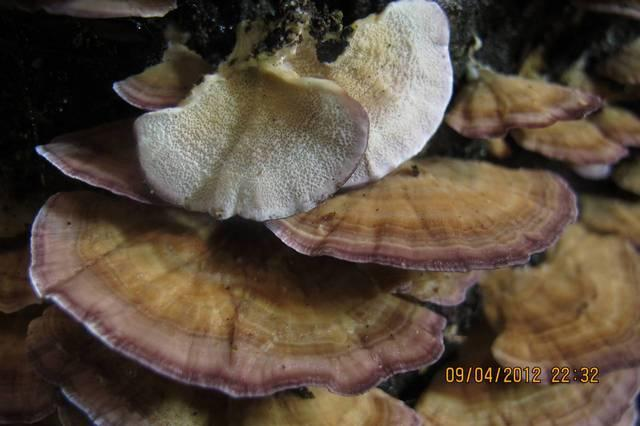poisonous_mushroom: (112, 0, 640, 416)
